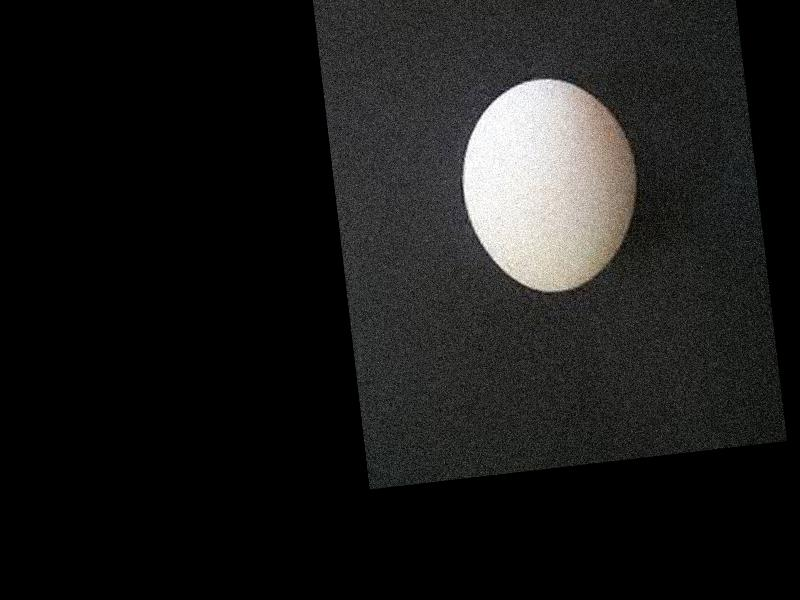Eggs: (452, 75, 646, 303)
